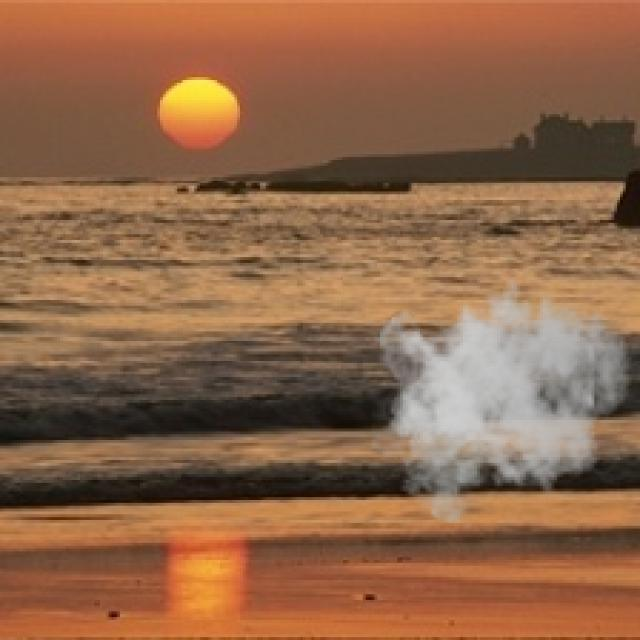Smoke: (372, 266, 632, 523)
